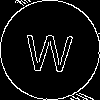W: (25, 25, 74, 72)
